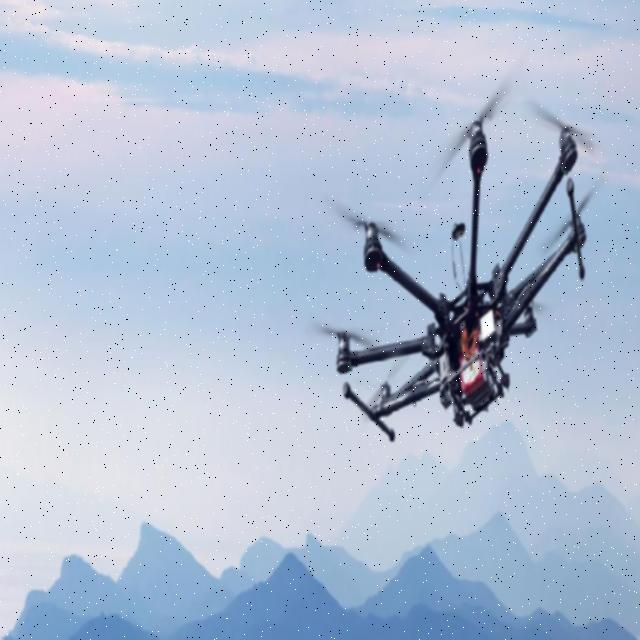UAV: (334, 113, 593, 457)
